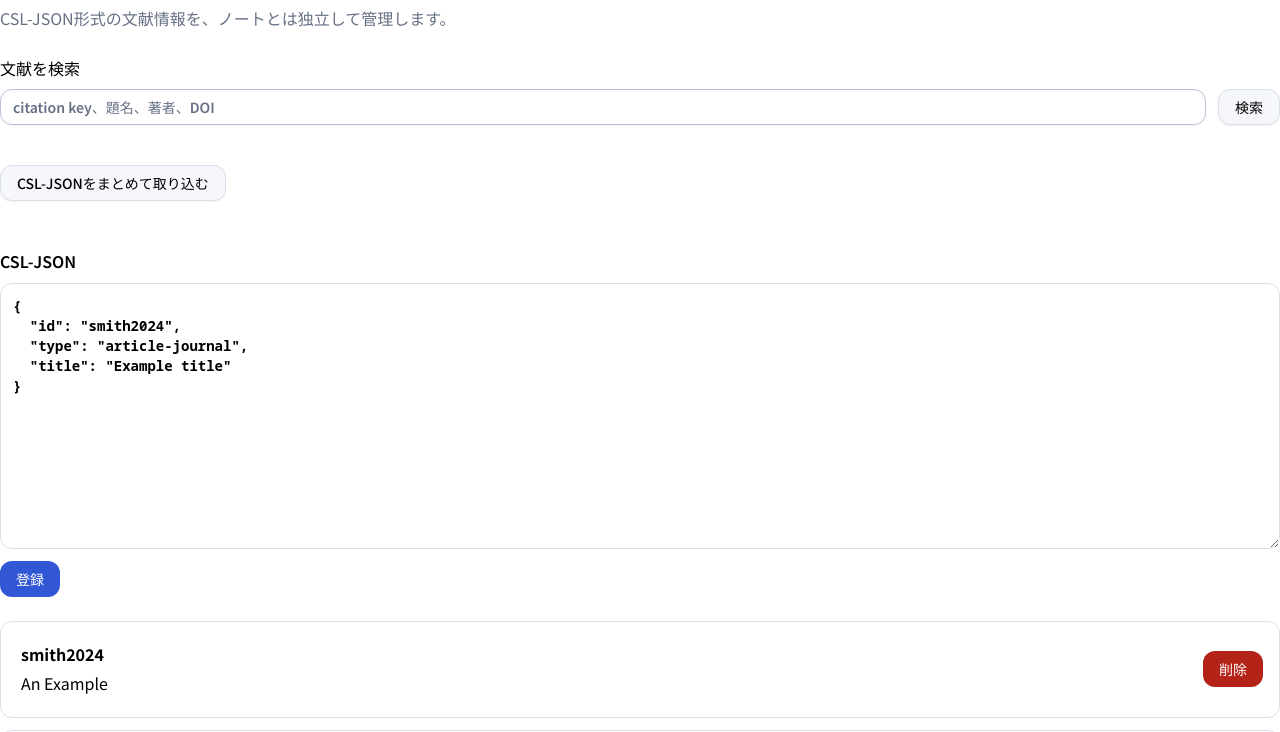
登録失敗を後から開いた削除確認へ混ぜない
Expected: the button "smith2024 An Example" is shown, [17,638,112,701]
Click the button "登録": (30, 579) [0,561,60,597]
(page scrolled)
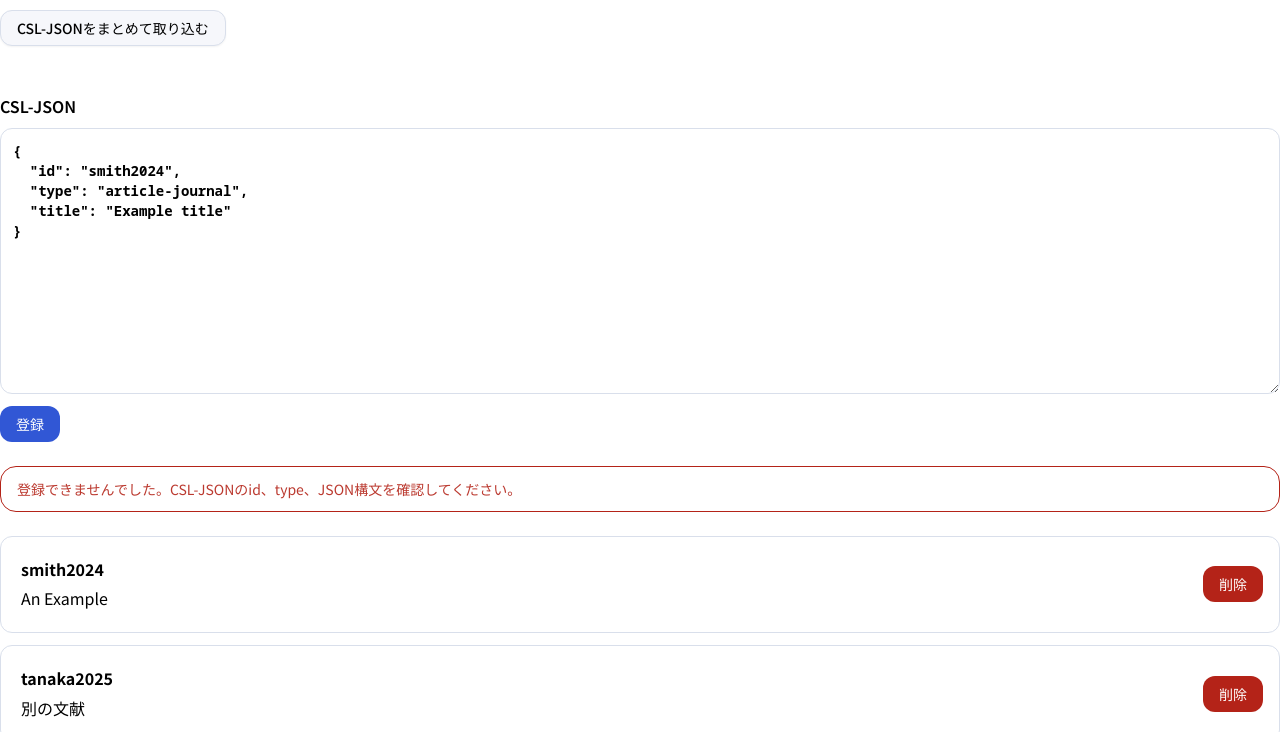
Now the message shows "登録できませんでした", box [17,479,521,499]
Click the 1st button "削除": (1233, 584) [1203,566,1263,602]
(page scrolled)
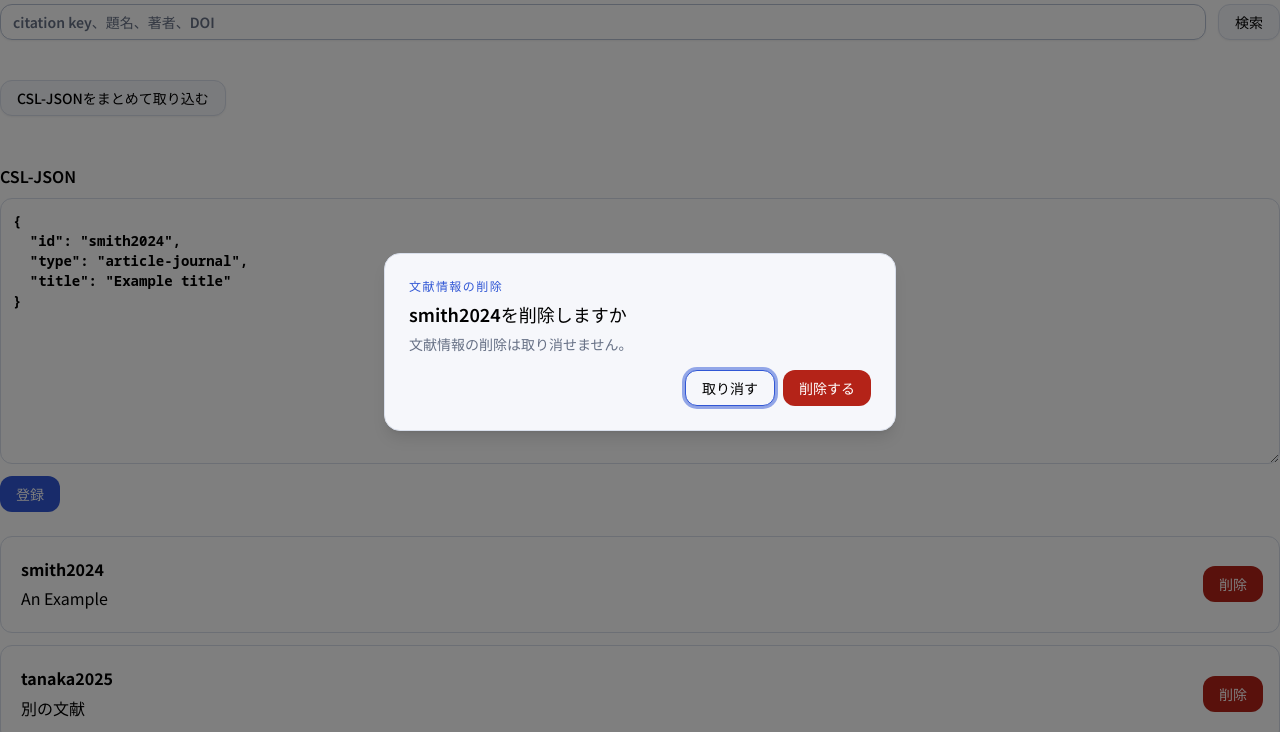
Now the message "登録できませんでした。CSL-JSONのid、type、JSON構文を確認してください。" is gone
Click the button "取り消す": (730, 388) [685,370,775,406]
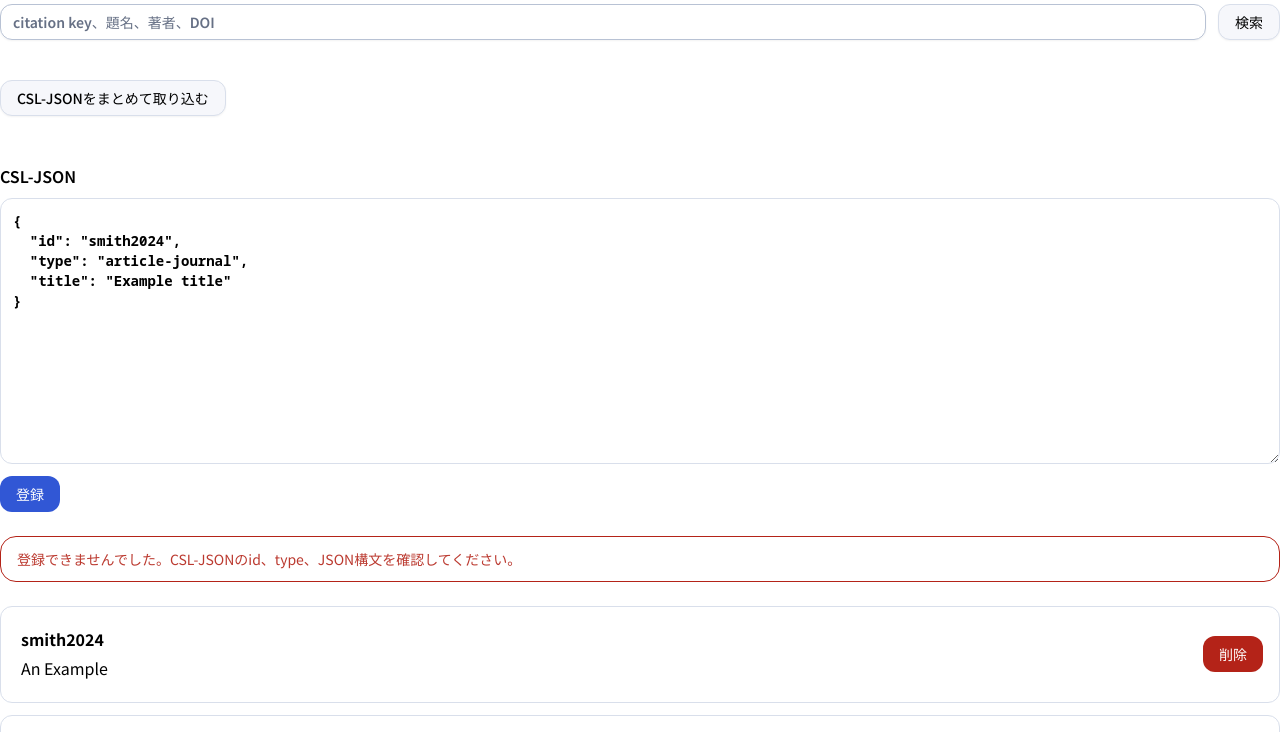
Now the text "登録できませんでした" is shown, box [17,549,521,569]
